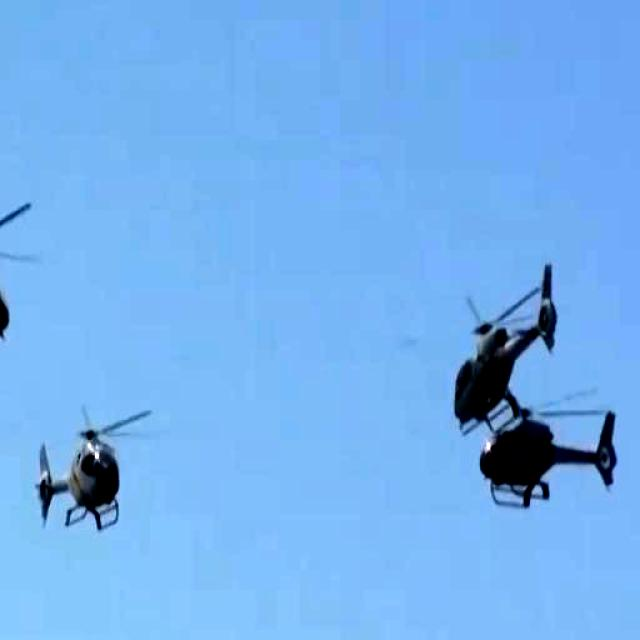drone: (32, 400, 155, 539), (454, 274, 555, 432), (484, 424, 631, 531), (0, 181, 40, 372)
